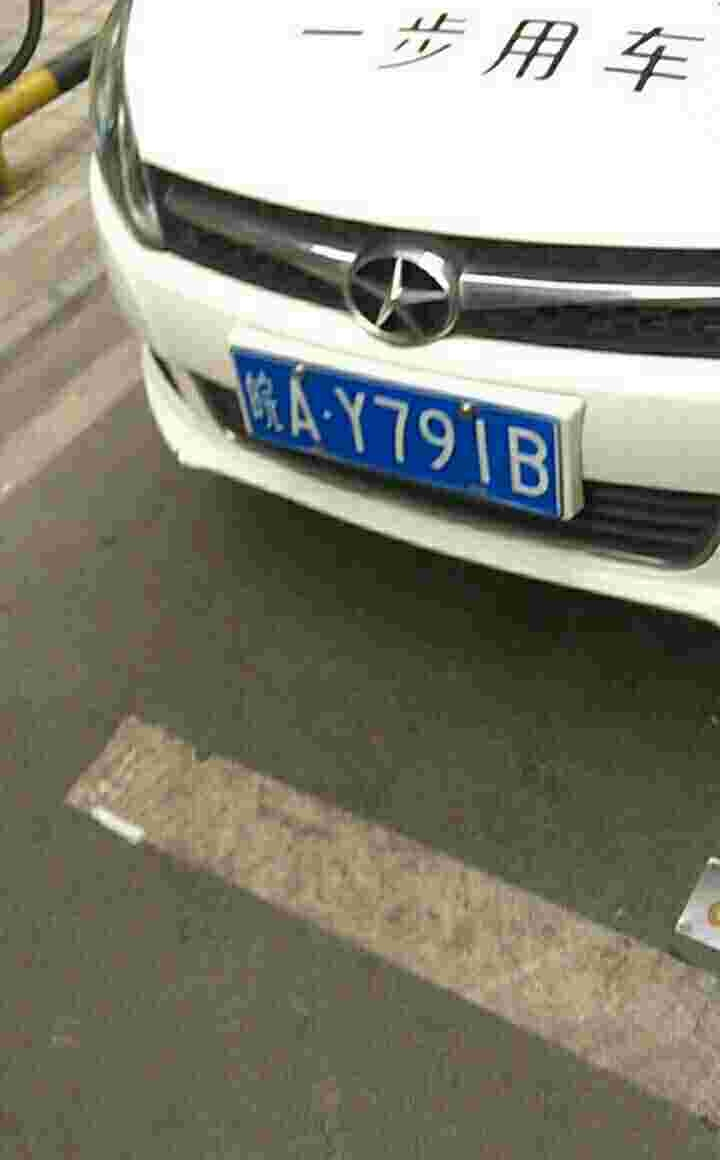license_plate: (247, 344, 565, 517)
